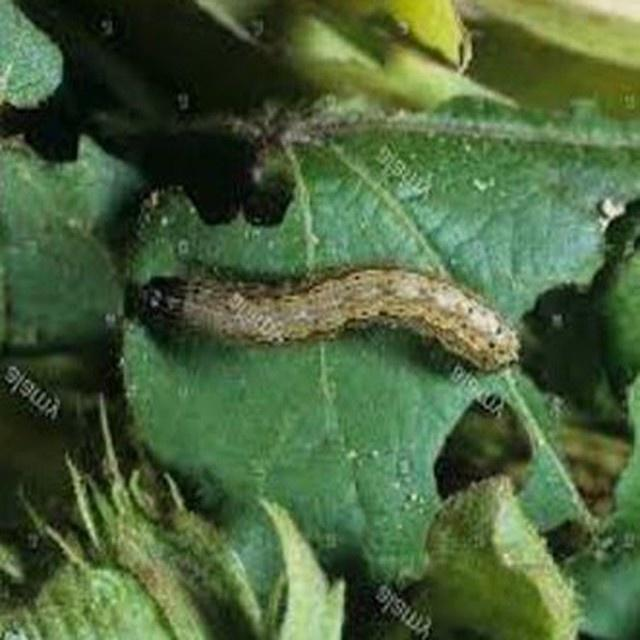gusano_cogollero: (136, 267, 524, 370)
